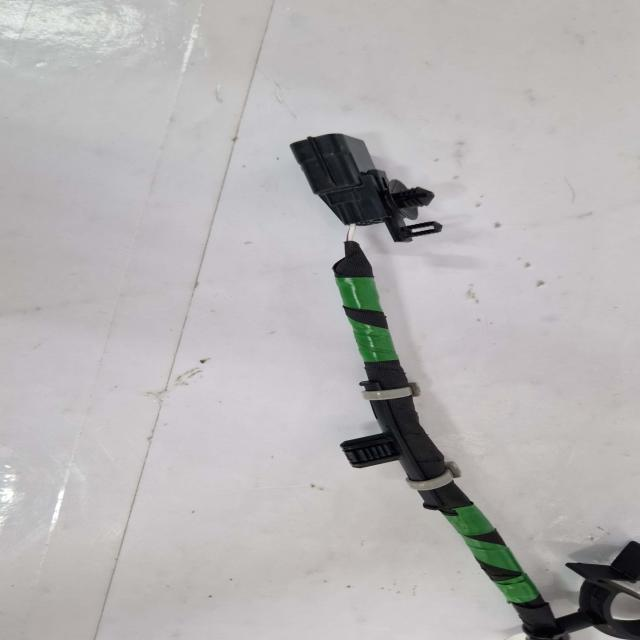AJ20_D6_Cable: (326, 250, 559, 638)
Clip: (524, 541, 640, 640)
Connector: (285, 139, 431, 242)
Gape: (348, 224, 357, 241)
strap: (405, 464, 458, 492), (357, 387, 413, 405)
